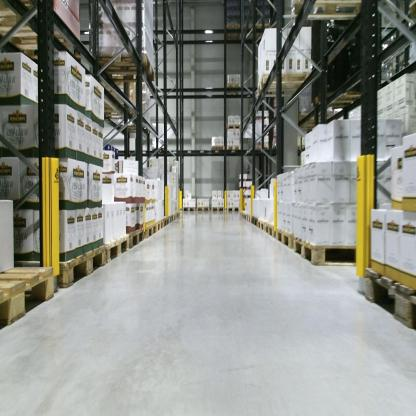pallet: (1, 2, 85, 53), (0, 259, 57, 334), (363, 266, 415, 331), (47, 243, 107, 289), (83, 48, 156, 83), (293, 235, 360, 270), (292, 2, 371, 25), (256, 69, 308, 99), (100, 234, 130, 263), (95, 104, 137, 120), (276, 225, 293, 253), (127, 226, 146, 250), (224, 21, 242, 43), (118, 125, 154, 134), (195, 205, 226, 214), (225, 82, 241, 98), (141, 223, 157, 239), (264, 221, 277, 240), (153, 217, 165, 233), (211, 142, 226, 152), (226, 206, 243, 214), (181, 206, 196, 215), (160, 216, 170, 229), (258, 217, 266, 233), (227, 124, 243, 131), (251, 215, 258, 230), (226, 144, 243, 150), (167, 213, 174, 223), (246, 213, 252, 223), (171, 212, 177, 221), (176, 211, 180, 220)
